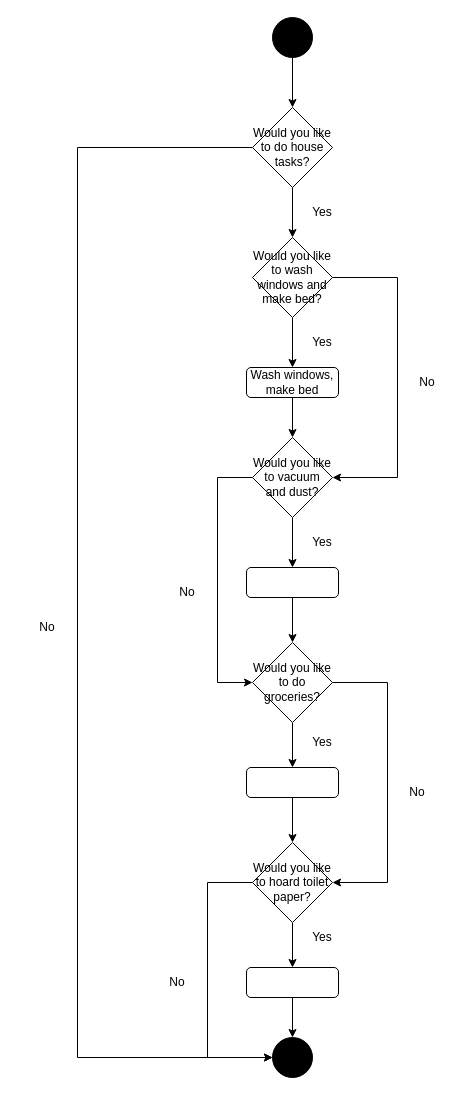
This 474x1095 diagram has some shape labels left out. The centre of each missing label's shape, as x and y in pixels:
"Do groceries" goes at [292,782].
"Hoard toilet paper" goes at [292,982].
"Vacuum and dust" goes at [292,582].
